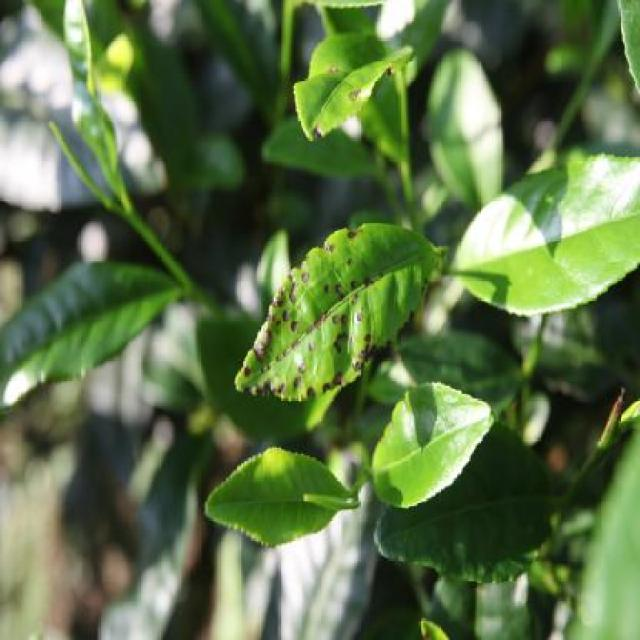Tea Mosquito bug infested leaf: (230, 206, 444, 406)
